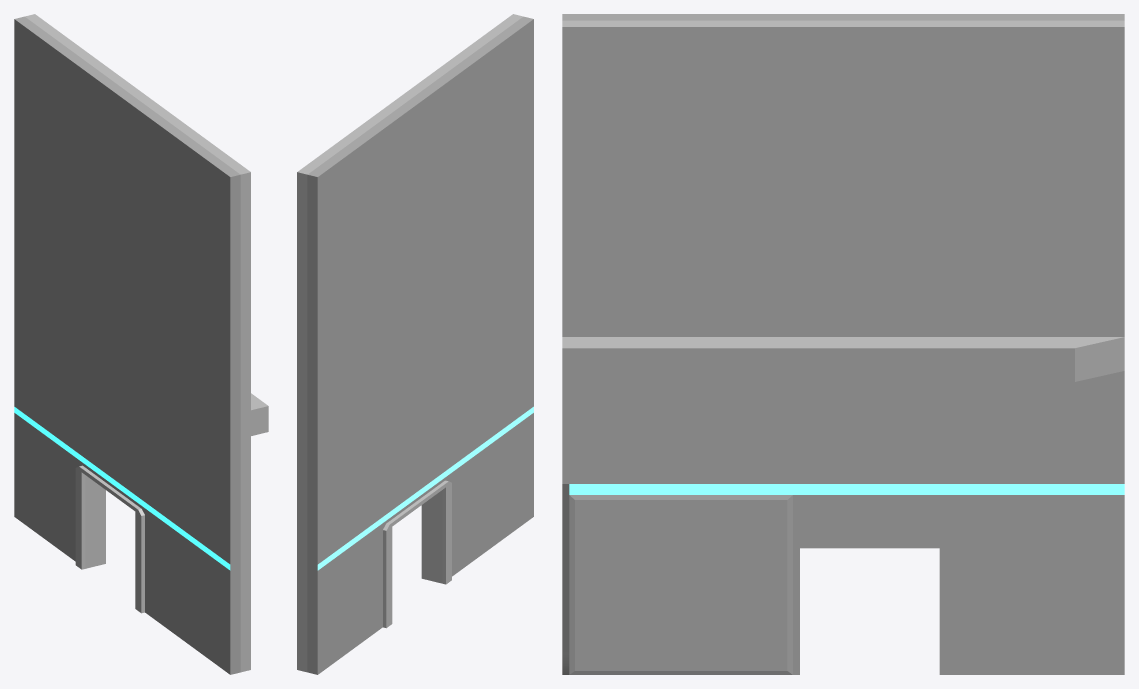
The model's file is Safe Room Enter Door.fbx.
The picture shows the model from 3 angles, left to right: view 1: azimuth 30°, elevation 25°; view 2: azimuth 150°, elevation 25°; view 3: azimuth 270°, elevation 25°; orthographic projection. The views are drawn at different scales.
Visible parts, largest first — view 1: Cube.002; view 2: Cube.002; view 3: Cube.002.
Boxes of the visible parts, x1,y1,x2,y2 form: Cube.002: [14, 14, 268, 674]; Cube.002: [297, 14, 533, 674]; Cube.002: [562, 14, 1124, 674].
Size of the model in its own units: 135 by 1534 by 1207.
